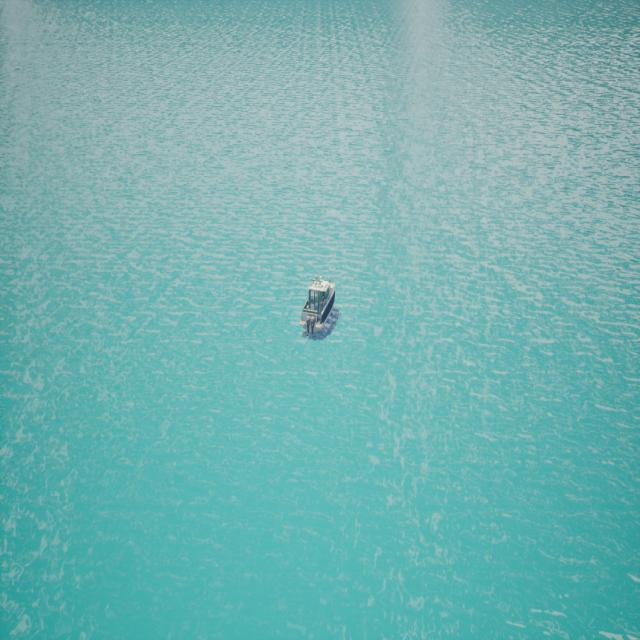ship: (300, 278, 340, 342)
